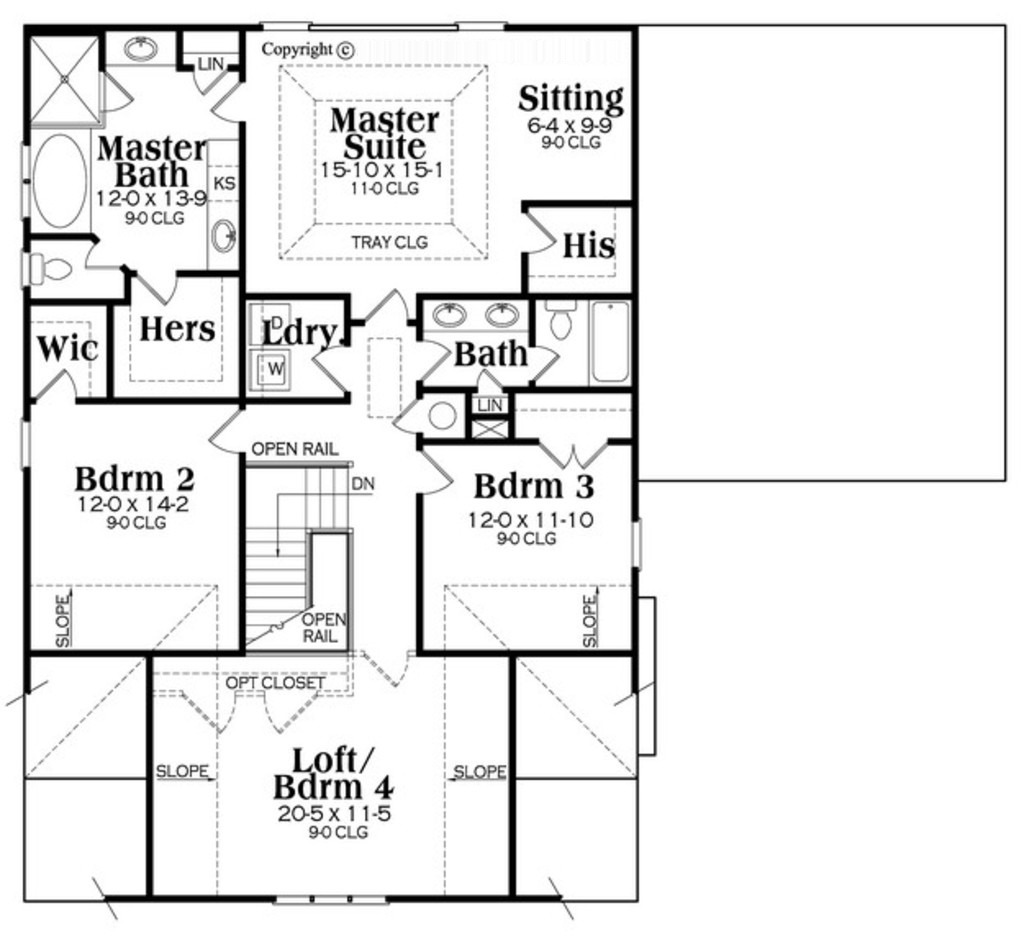door: (175, 685, 246, 738), (256, 685, 326, 732), (30, 364, 90, 413), (362, 638, 424, 685), (208, 78, 262, 130), (205, 406, 259, 456), (130, 261, 185, 307), (313, 339, 358, 394), (362, 290, 420, 332), (514, 201, 561, 252), (543, 438, 610, 472), (520, 336, 559, 388), (413, 451, 455, 494), (98, 75, 142, 116), (414, 339, 453, 383), (85, 233, 123, 271), (397, 396, 432, 436), (190, 59, 220, 93)
large_sink: (13, 239, 74, 285), (545, 300, 578, 343)
small_sink: (91, 23, 184, 71), (423, 291, 520, 333), (198, 203, 243, 268)
stairs: (236, 454, 358, 652)
tub: (32, 129, 90, 239), (590, 303, 636, 385)
window: (272, 894, 392, 909), (455, 13, 520, 36), (258, 14, 316, 36), (626, 510, 645, 571), (23, 413, 33, 477)
